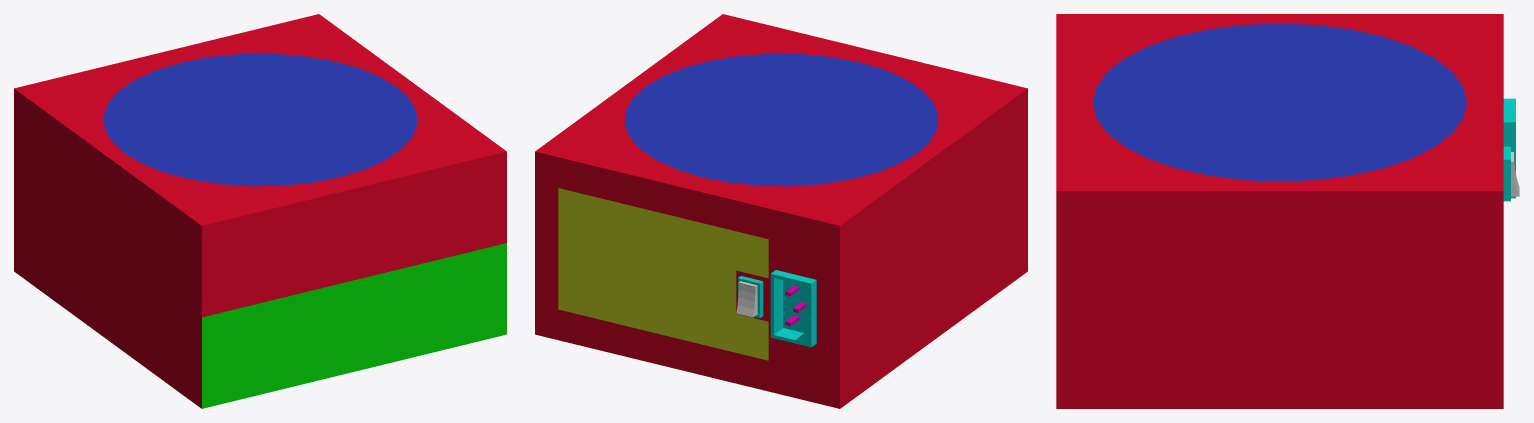
The model's file is PowerSupplyUnit.fbx.
3 renders of one model, left to right at view 1: azimuth 30°, elevation 25°; view 2: azimuth 150°, elevation 25°; view 3: azimuth 270°, elevation 25°, orthographic. The views are drawn at different scales.
Parts seen in each view (by area): view 1: PSU_Base; view 2: PSU_Base, PowerButton; view 3: PSU_Base.
Part boxes in pixels (x1,y1,x2,y2): PSU_Base: [14, 14, 506, 408]; PSU_Base: [535, 14, 1027, 408]; PowerButton: [736, 281, 757, 317]; PSU_Base: [1056, 14, 1515, 408].
Size of the model in its own units: 15 by 8.6 by 16.58.
